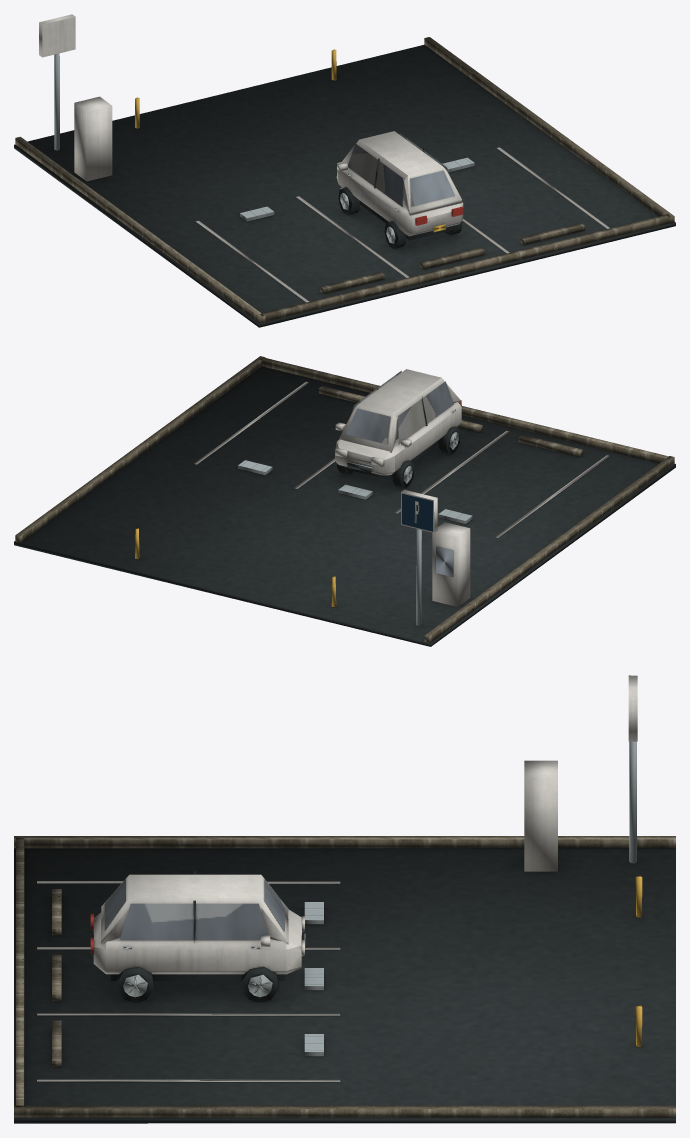
File: parking_001.lod1.obj
3 renders of one model, top to bottom at view 1: azimuth 30°, elevation 25°; view 2: azimuth 150°, elevation 25°; view 3: azimuth 270°, elevation 25°, orthographic. The views are drawn at different scales.
Visible parts, largest first — view 1: parking_001; view 2: parking_001; view 3: parking_001.
Boxes of the visible parts, left/top/right/bottom form: parking_001: left=14, top=14, right=675, bottom=327; parking_001: left=14, top=356, right=675, bottom=646; parking_001: left=14, top=675, right=675, bottom=1123.
Size of the model in its own units: 10.6 by 3.25 by 10.8.
1 material, 1 textured.
